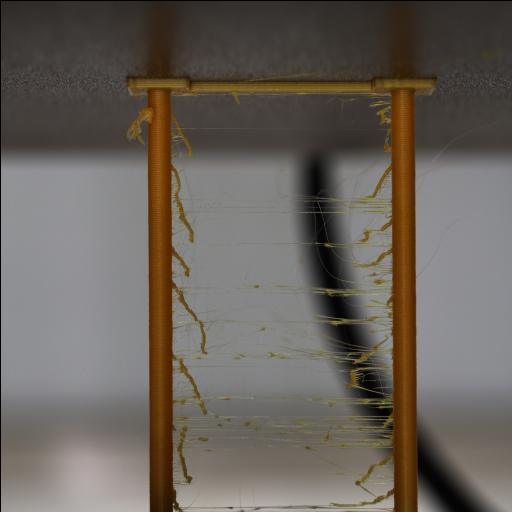stringing: (170, 172, 394, 512), (124, 108, 153, 138)
